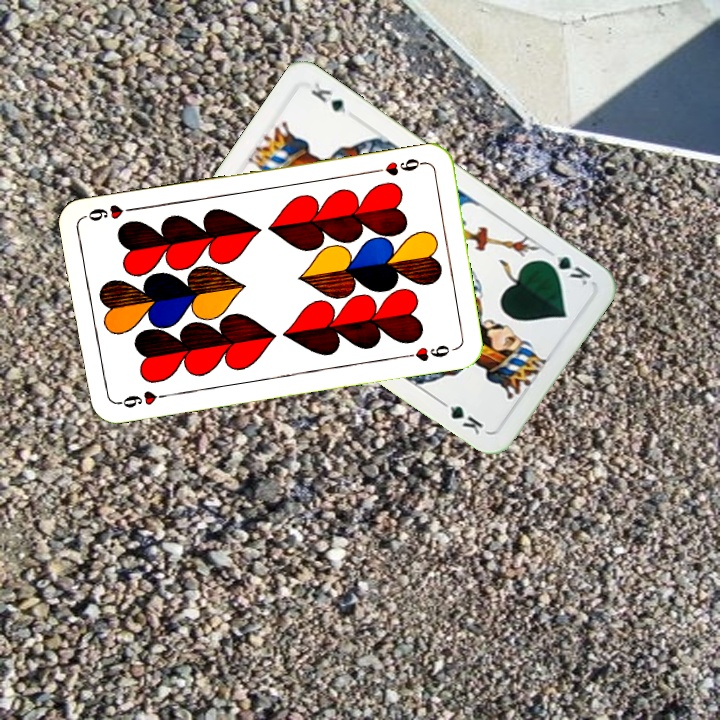GK: (538, 246, 594, 288)
H9: (369, 154, 428, 178), (112, 387, 171, 411)
